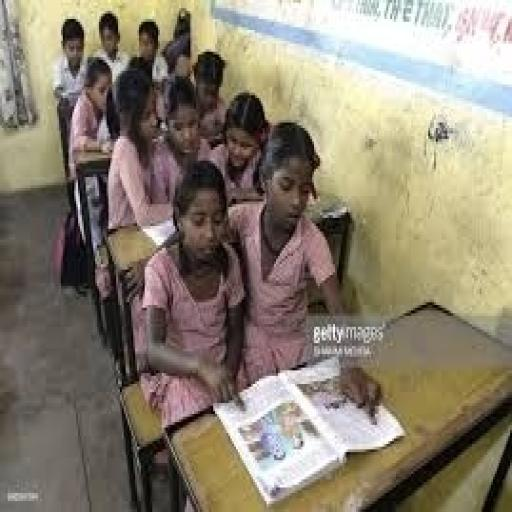sitting: (49, 5, 379, 504)
